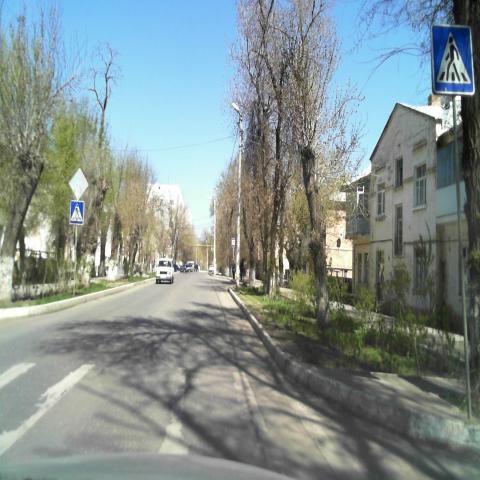5_19_1: (430, 19, 474, 97), (71, 200, 84, 225)
